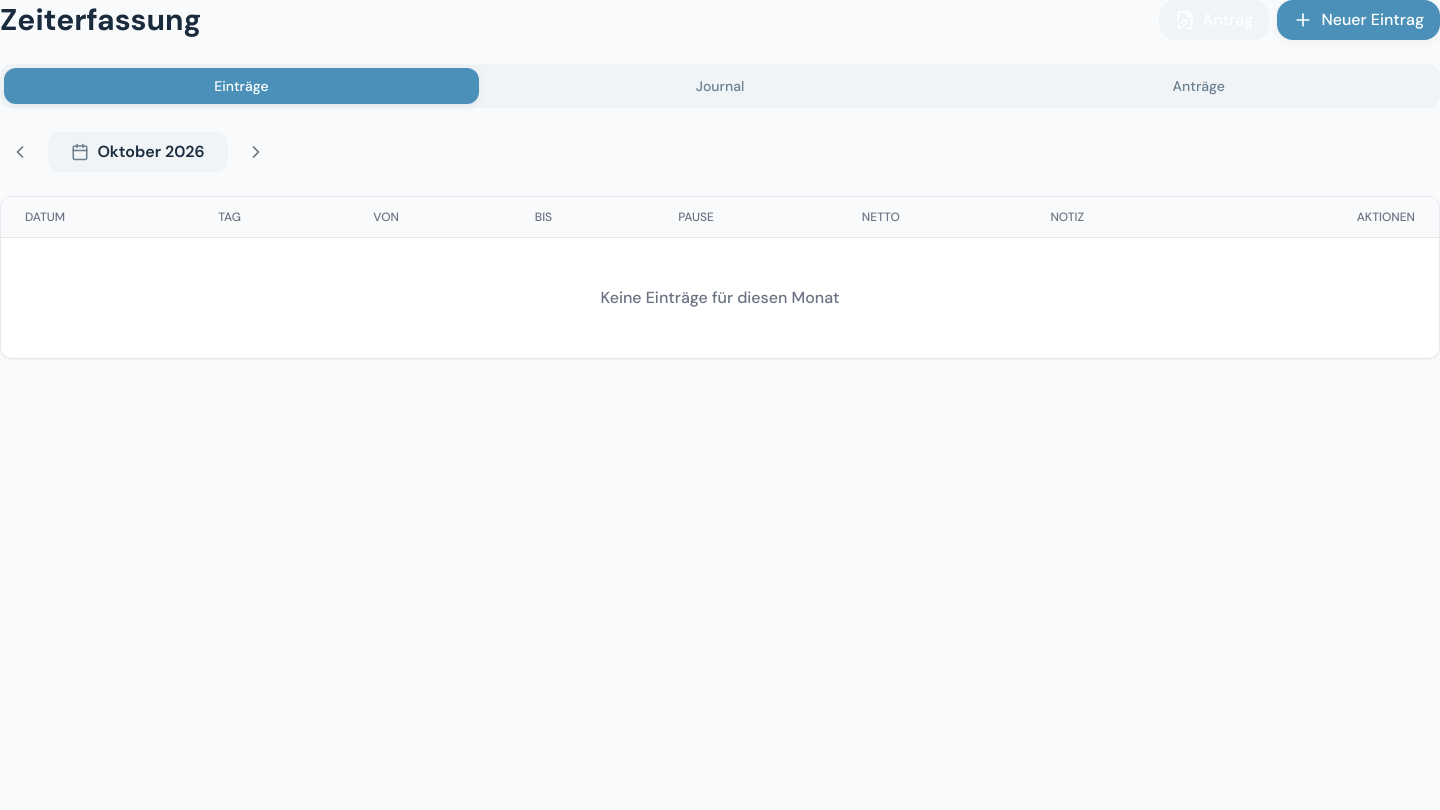
<TimeTracking /> §10-Ausnahmegrund bei der Direkteingabe (#491 F4) › zeigt das Feld an einem gesetzlichen Feiertag unter der Woche
The width and height of the screenshot is (1440, 810).
Click the button "Neuer Eintrag": point(1359, 20) left=1277, top=0, right=1439, bottom=40
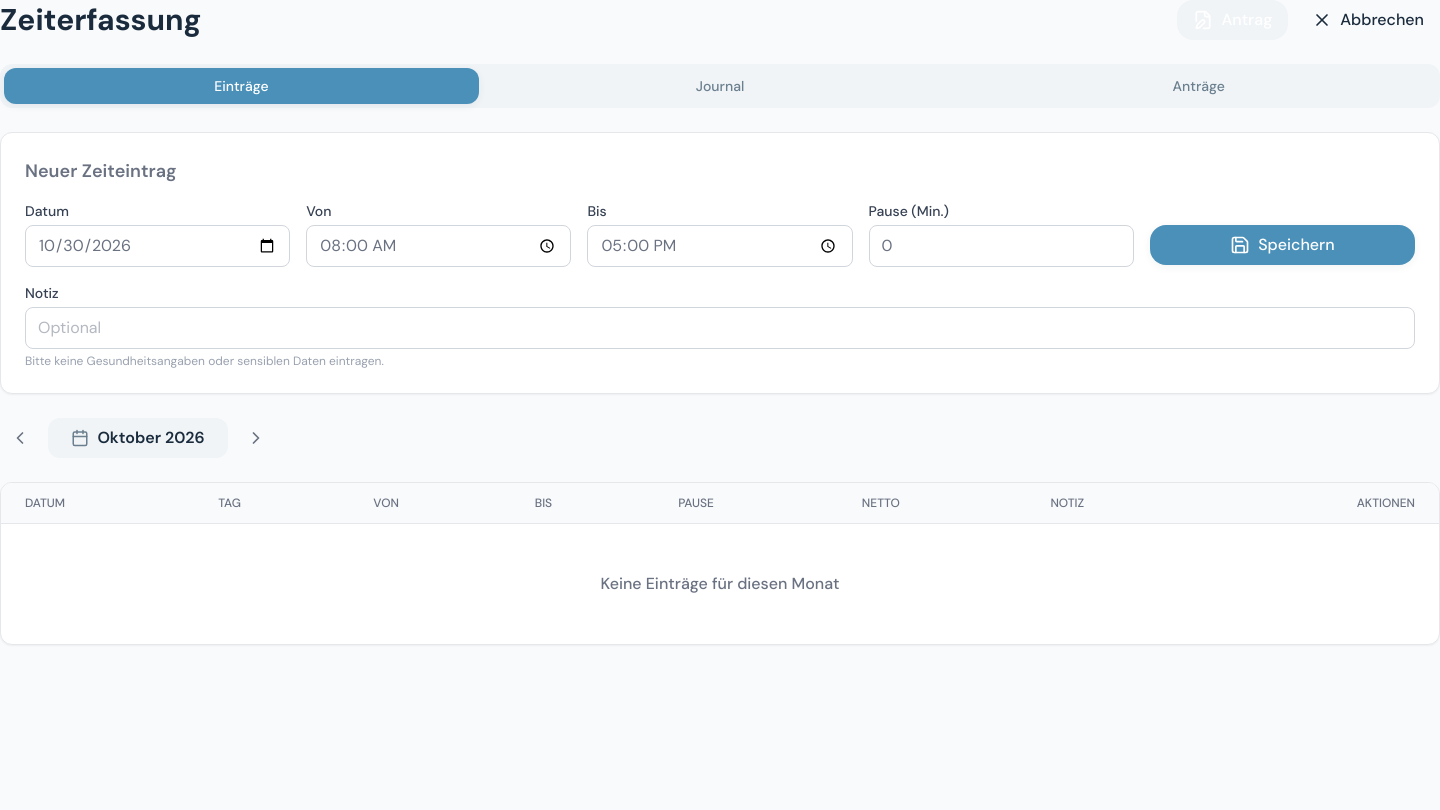
In the date field labelled "Datum": point(158, 246) left=25, top=225, right=290, bottom=267, type "2026-05-14"
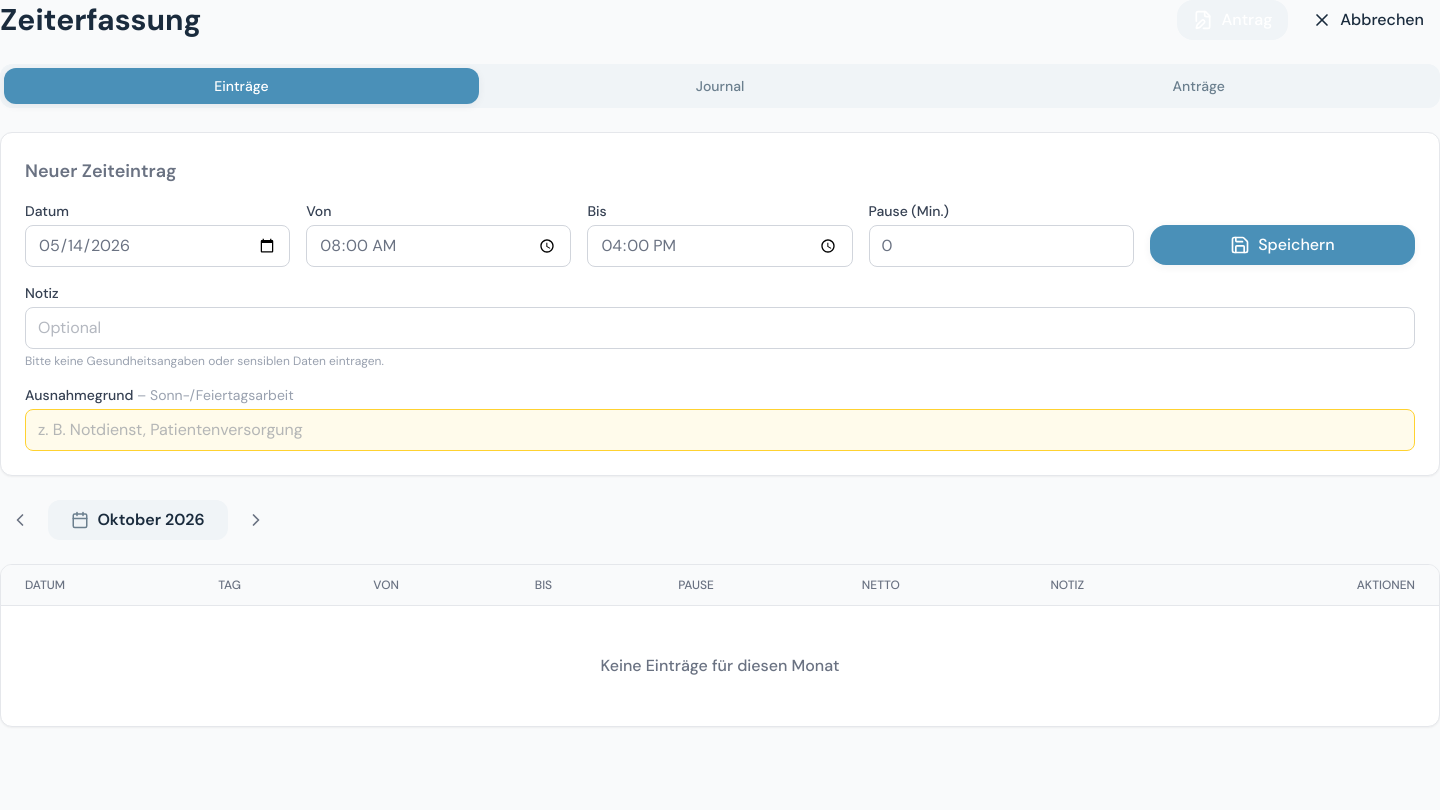
Expected: the field labelled "Ausnahmegrund – Sonn-/Feiertagsarbeit" is shown, left=25, top=409, right=1415, bottom=451
